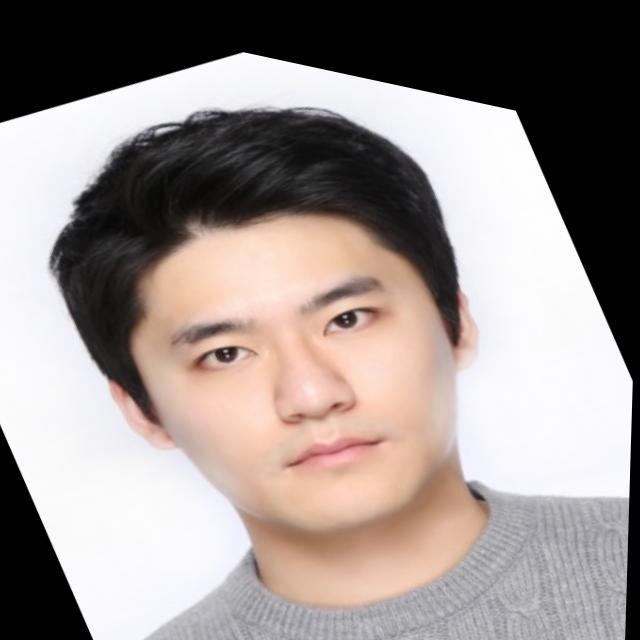Nonhelmet: (46, 96, 490, 548)
